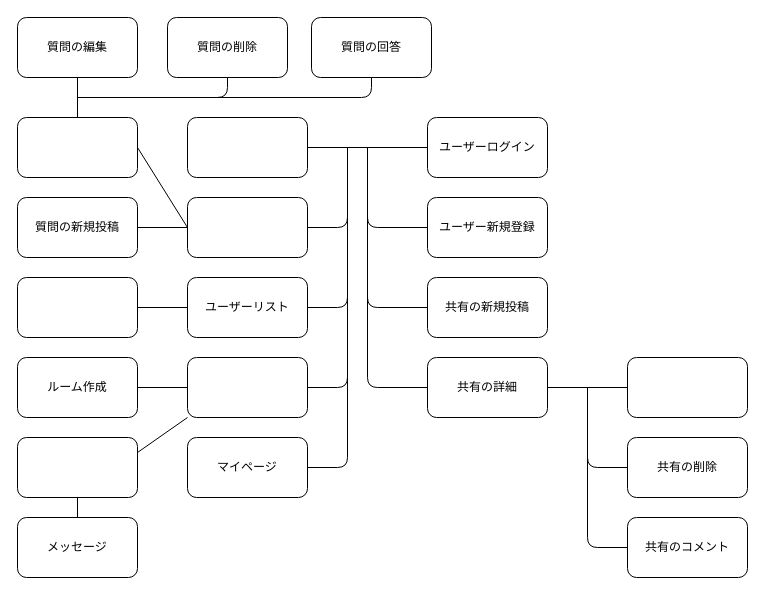
Some shapes in this 765 by 595 pixel diagram are drawn without their labels. The shapes that lost their labels are listed below. From the top down, each one's centre as x and y in pixels, then its label:
At pixel 77 147: "質問の詳細".
At pixel 247 147: "トップページ （共有掲示板）".
At pixel 247 227: "質問掲示板".
At pixel 77 307: "ユーザーの詳細".
At pixel 247 387: "マイチャット".
At pixel 687 387: "共有の編集".
At pixel 77 467: "チャットルーム".
